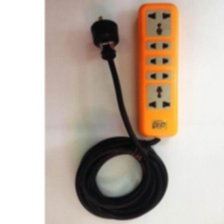three_eye_plug: (134, 0, 181, 140)
